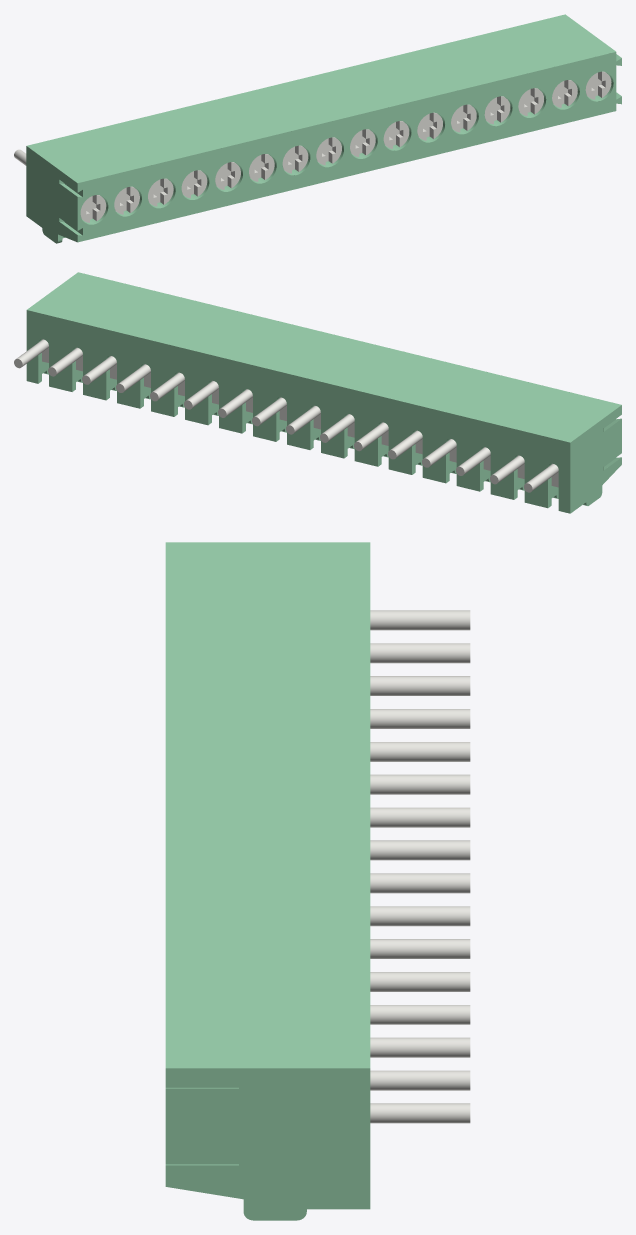
The model's file is TerminalBlock_Phoenix_PT-1,5-16-3.5-H_1x16_P3.50mm_Horizontal.glb.
The picture shows the model from 3 angles, top to bottom: view 1: azimuth 30°, elevation 25°; view 2: azimuth 150°, elevation 25°; view 3: azimuth 270°, elevation 25°; orthographic projection. The views are drawn at different scales.
Visible parts, largest first — view 1: Shape_IndexedFaceSet.002, Shape_IndexedFaceSet.101, Shape_IndexedFaceSet.001; view 2: Shape_IndexedFaceSet, Shape_IndexedFaceSet.002, Shape_IndexedFaceSet.001, Shape_IndexedFaceSet.277, Shape_IndexedFaceSet.287, Shape_IndexedFaceSet.302, Shape_IndexedFaceSet.342, Shape_IndexedFaceSet.292, Shape_IndexedFaceSet.307, Shape_IndexedFaceSet.327, Shape_IndexedFaceSet.347, Shape_IndexedFaceSet.272 (+7 smaller); view 3: Shape_IndexedFaceSet.002, Shape_IndexedFaceSet.003, Shape_IndexedFaceSet.272, Shape_IndexedFaceSet.277, Shape_IndexedFaceSet.282, Shape_IndexedFaceSet.302, Shape_IndexedFaceSet.307, Shape_IndexedFaceSet.312, Shape_IndexedFaceSet.317, Shape_IndexedFaceSet.322, Shape_IndexedFaceSet.342, Shape_IndexedFaceSet.347 (+8 smaller).
Part boxes in pixels (left/top/right/bottom): Shape_IndexedFaceSet.002: left=27, top=14, right=615, bottom=183; Shape_IndexedFaceSet.101: left=77, top=52, right=621, bottom=242; Shape_IndexedFaceSet.001: left=26, top=146, right=77, bottom=243; Shape_IndexedFaceSet: left=26, top=310, right=570, bottom=513; Shape_IndexedFaceSet.002: left=27, top=272, right=621, bottom=442; Shape_IndexedFaceSet.001: left=570, top=405, right=621, bottom=513; Shape_IndexedFaceSet.277: left=50, top=347, right=82, bottom=374; Shape_IndexedFaceSet.287: left=118, top=364, right=150, bottom=391; Shape_IndexedFaceSet.302: left=220, top=389, right=252, bottom=416; Shape_IndexedFaceSet.342: left=492, top=455, right=524, bottom=482; Shape_IndexedFaceSet.292: left=152, top=372, right=184, bottom=399; Shape_IndexedFaceSet.307: left=254, top=397, right=286, bottom=424; Shape_IndexedFaceSet.327: left=390, top=430, right=422, bottom=457; Shape_IndexedFaceSet.347: left=526, top=464, right=558, bottom=490; Shape_IndexedFaceSet.272: left=16, top=339, right=48, bottom=366; Shape_IndexedFaceSet.002: left=165, top=542, right=370, bottom=1068; Shape_IndexedFaceSet.003: left=165, top=1068, right=370, bottom=1220; Shape_IndexedFaceSet.272: left=370, top=1103, right=470, bottom=1123; Shape_IndexedFaceSet.277: left=370, top=1070, right=470, bottom=1090; Shape_IndexedFaceSet.282: left=370, top=1037, right=470, bottom=1057; Shape_IndexedFaceSet.302: left=370, top=906, right=470, bottom=926; Shape_IndexedFaceSet.307: left=370, top=873, right=470, bottom=893; Shape_IndexedFaceSet.312: left=370, top=840, right=470, bottom=860; Shape_IndexedFaceSet.317: left=370, top=807, right=470, bottom=827; Shape_IndexedFaceSet.322: left=370, top=774, right=470, bottom=794; Shape_IndexedFaceSet.342: left=370, top=643, right=470, bottom=663; Shape_IndexedFaceSet.347: left=370, top=610, right=470, bottom=630.
Bounding box in the file's own units: 22.27 × 2.97 × 5.39.
